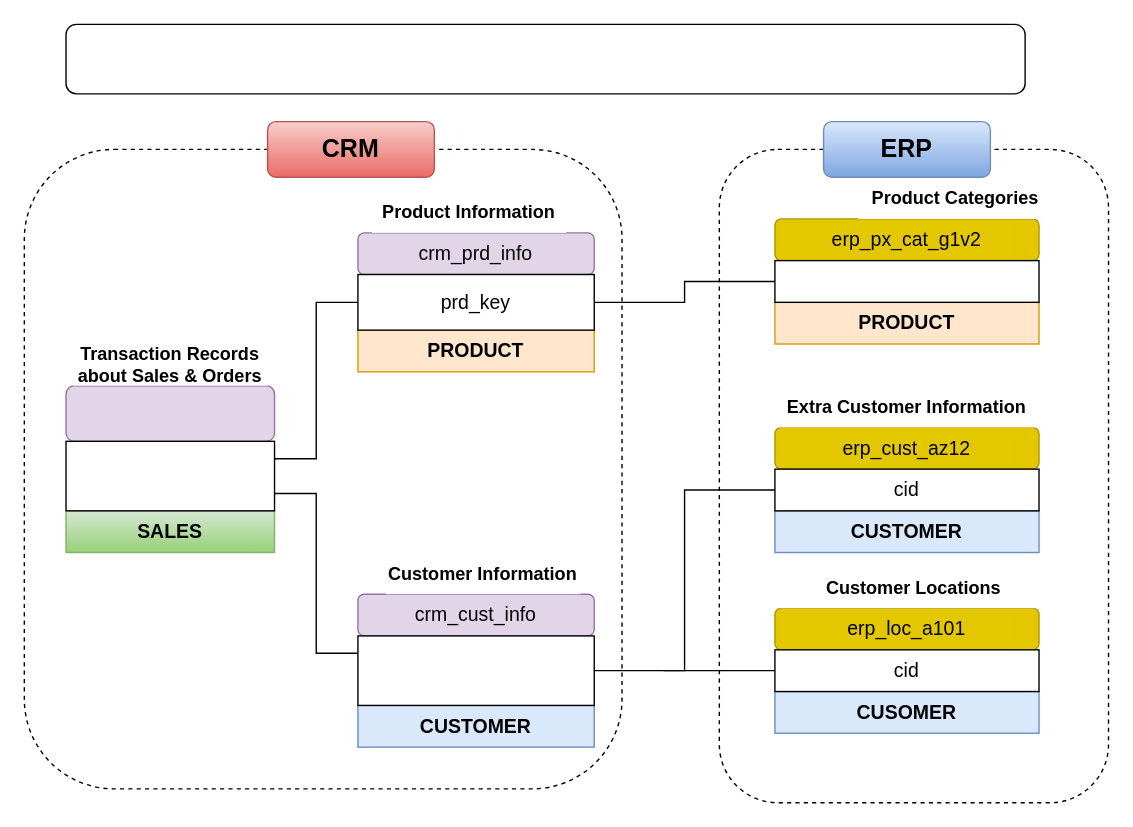
The diagram is 1133 pixels wide and 827 high, and some of its shapes have lost their labels. Each missing label, with the centre of its shape:
crm_sales_details: [170,412]
cst_id cst_key: [475,670]
Data Integratio n (how tables are related): [545,58]
id: [906,280]
prd_key cst_id: [170,475]
